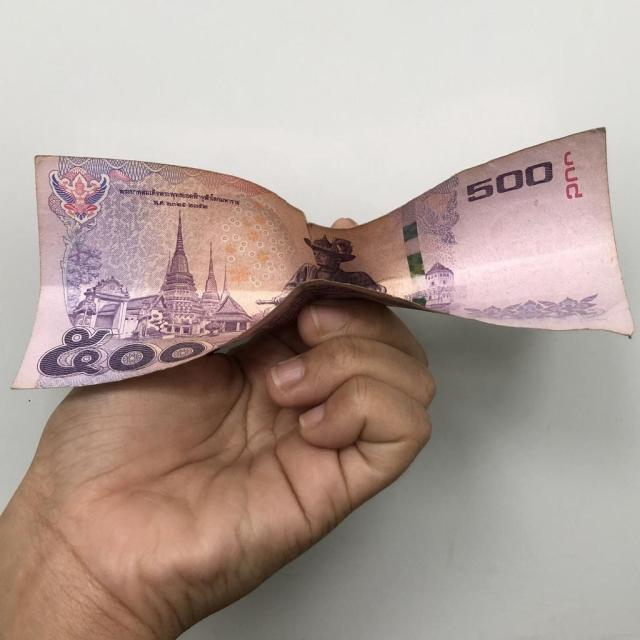THAI500: (12, 128, 633, 388)
